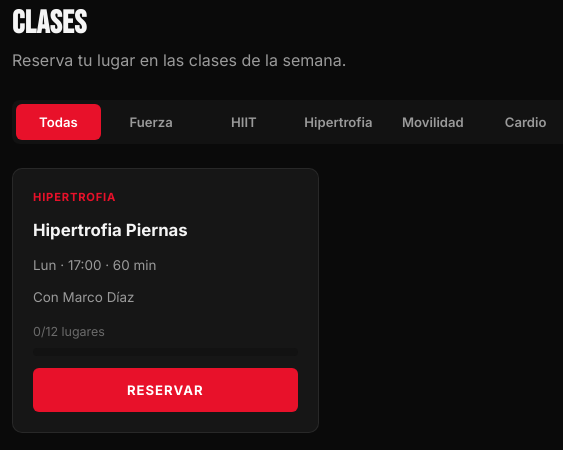
MemberClasses booking › lets a logged-in member reserve and cancel a class spot
Click the button "Reservar": (165,390) left=33, top=368, right=298, bottom=412
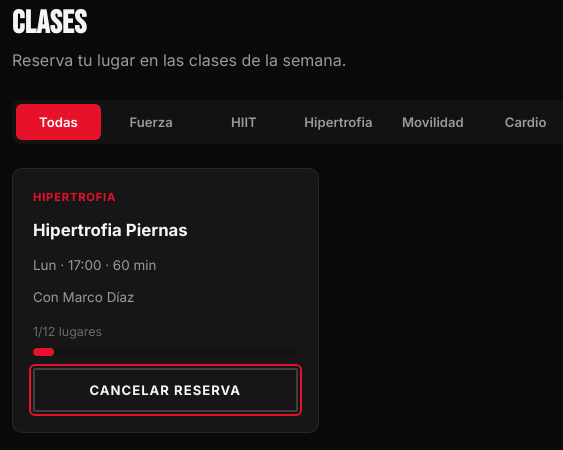
Result: the button "Cancelar reserva" is shown
Click the button "Cancelar reserva": (165,390) left=33, top=368, right=298, bottom=412
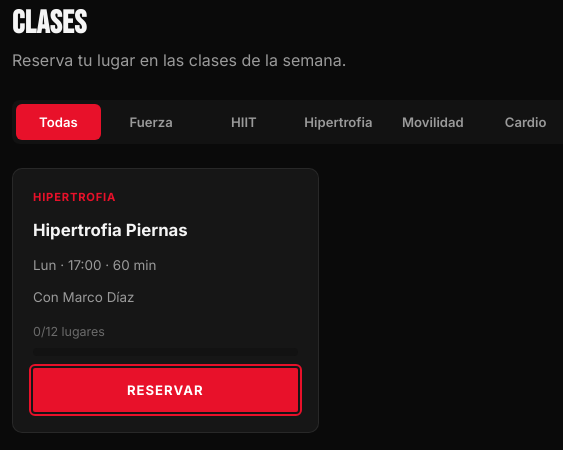
Result: the button "Reservar" is shown at left=33, top=368, right=298, bottom=412
